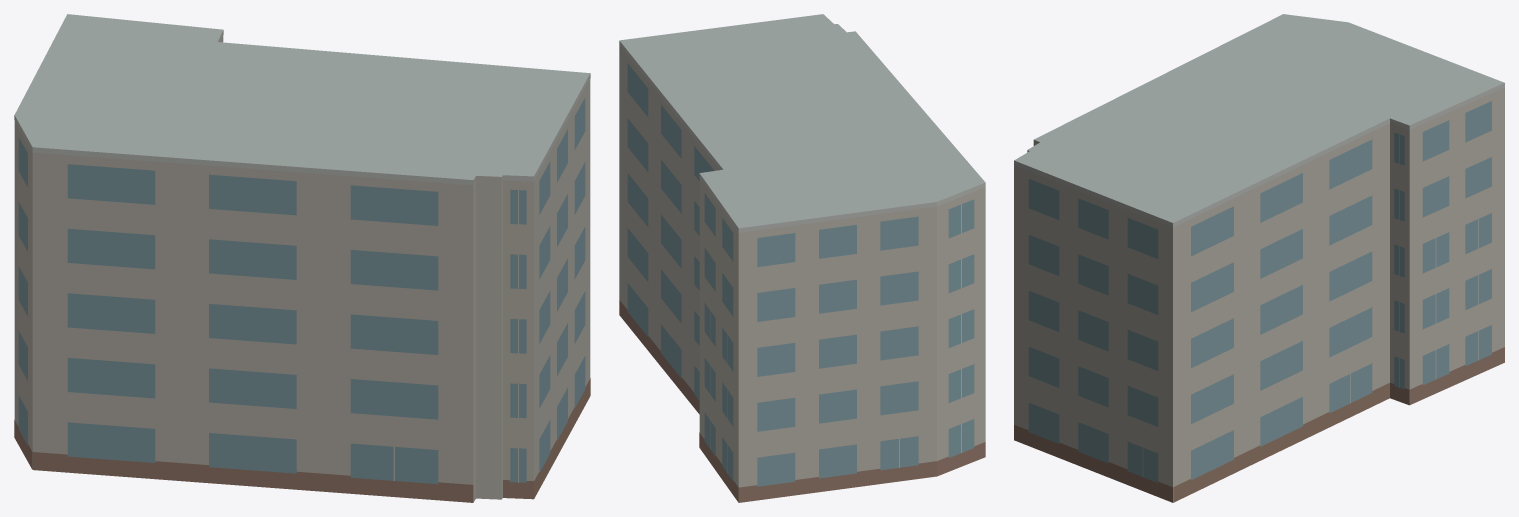
The model's file is survey-upis-32887607.glb.
The picture shows the model from 3 angles, left to right: view 1: azimuth 30°, elevation 25°; view 2: azimuth 150°, elevation 25°; view 3: azimuth 270°, elevation 25°; orthographic projection. The views are drawn at different scales.
Parts seen in each view (by area): view 1: survey-upis-32887607.tmp; view 2: survey-upis-32887607.tmp; view 3: survey-upis-32887607.tmp.
Part boxes in pixels (bbox=[...]): survey-upis-32887607.tmp: bbox=[14, 14, 590, 502]; survey-upis-32887607.tmp: bbox=[619, 14, 985, 502]; survey-upis-32887607.tmp: bbox=[1014, 14, 1504, 502].
Size of the model in its own units: 23.89 by 14.9 by 23.69.
